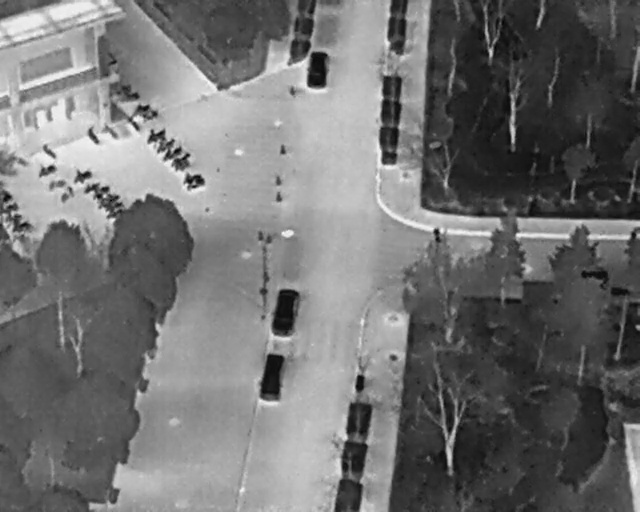Bicycle: (93, 187, 123, 214), (167, 148, 195, 174), (67, 163, 95, 188), (182, 172, 209, 196), (142, 122, 169, 145), (158, 140, 185, 163), (178, 165, 203, 188), (39, 139, 62, 163), (34, 159, 59, 181), (152, 134, 178, 155), (99, 119, 122, 142), (57, 183, 78, 207), (89, 181, 113, 202), (131, 97, 154, 118), (45, 174, 68, 194), (138, 105, 160, 125), (117, 89, 142, 106), (84, 124, 103, 146), (78, 178, 101, 196), (11, 217, 33, 233), (104, 198, 126, 214), (104, 207, 126, 221), (113, 82, 134, 96), (4, 199, 20, 214), (0, 189, 15, 204)
Car: (267, 285, 302, 340), (255, 349, 288, 405), (302, 48, 330, 93)
